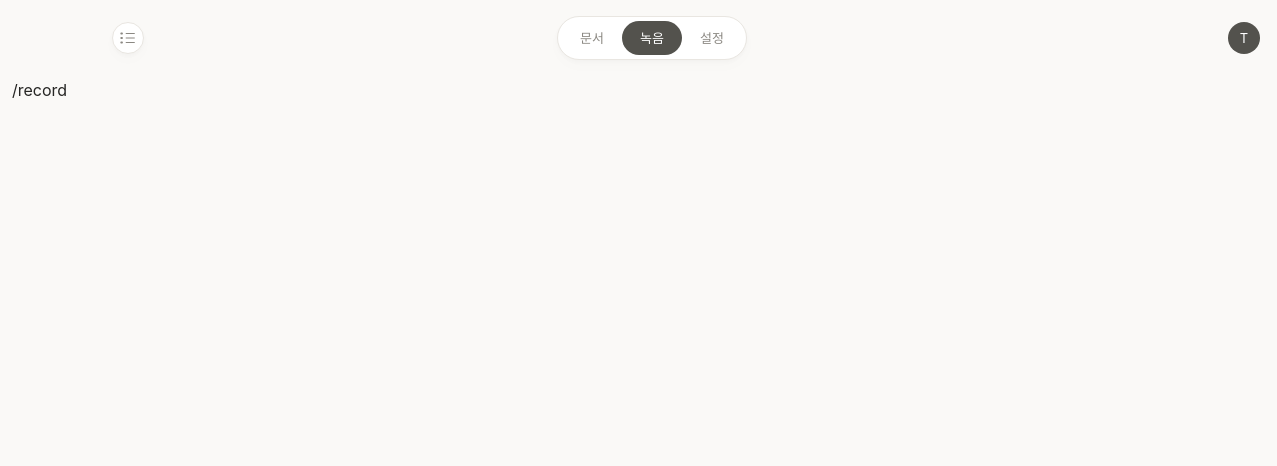
Test case: AppShellLayout navigation › keeps the global sidebar open and category stable from record to document and back to main documents
The width and height of the screenshot is (1277, 466).
Click the button named "문서 사이드바 열기" at (128, 38), box [112,22,144,54]
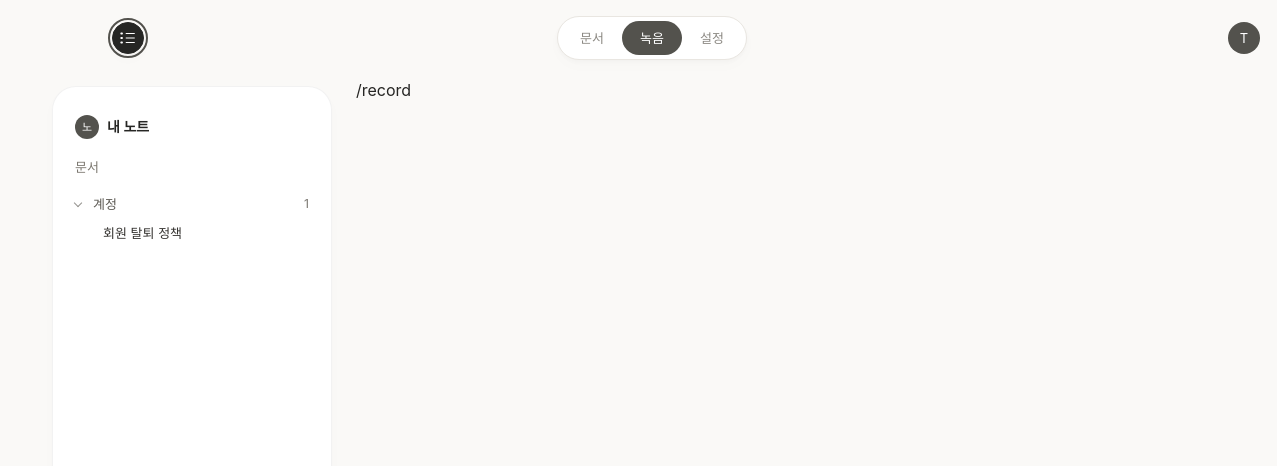
Now the text "계정" is shown, box [93,196,117,212]
Click the link "회원 탈퇴 정책" at (143, 233), box [103,225,182,241]
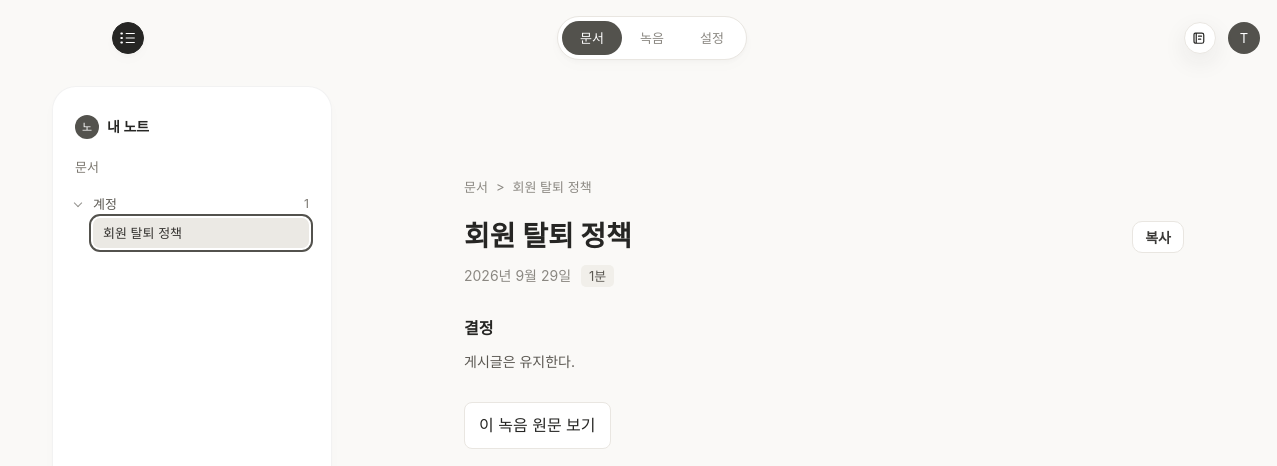
Now the button named "문서 사이드바 닫기" is shown, box [112,22,144,54]
Now the text "게시글은 유지한다." is shown, box [464,353,575,370]
Now the navigation bar named "문서 경로" reads "문서 > 회원 탈퇴 정책", box [464,179,592,195]
Click the link "문서" in the row of "설정" at (592, 38), box [562,21,622,55]
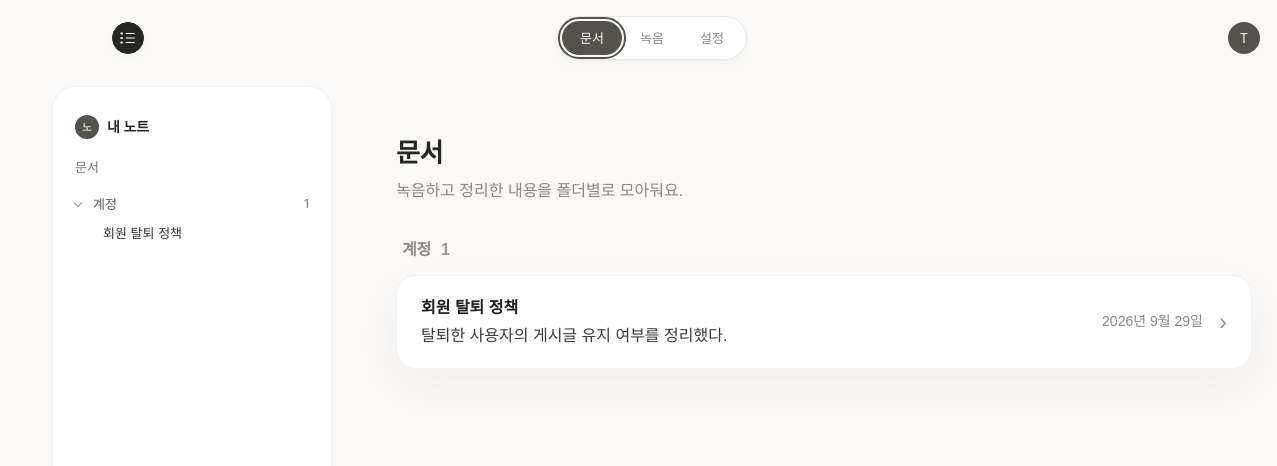
Now the button named "문서 사이드바 닫기" is shown, box [112,22,144,54]
Now the text "계정" is shown, box [93,196,117,212]
Now the element named "문서 목록" is shown, box [396,238,1252,369]
